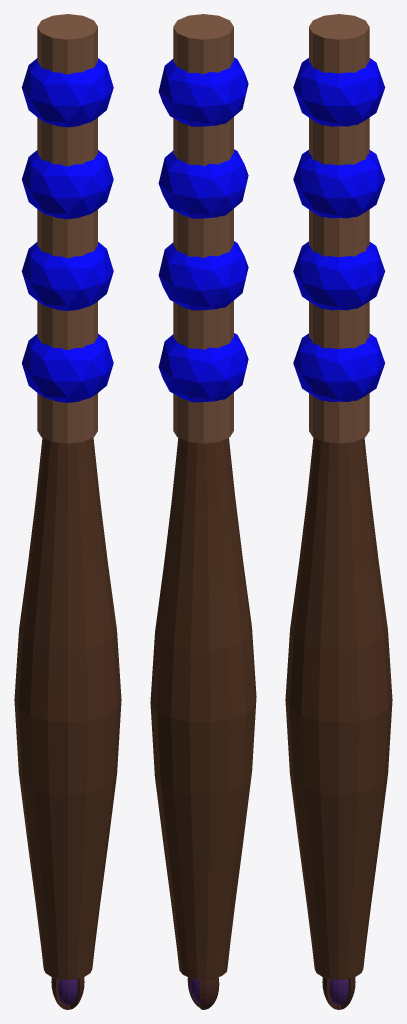
Rendered from Wand 137.glb.
3 views of the same model, side by side, from view 1: azimuth 90°, elevation 25°; view 2: azimuth 210°, elevation 25°; view 3: azimuth 270°, elevation 25° (orthographic).
Visible parts, largest first — view 1: GeneratedWand; view 2: GeneratedWand; view 3: GeneratedWand.
Boxes of the visible parts, box(x1,y1,x2,y2) form: GeneratedWand: box(14, 14, 121, 1009); GeneratedWand: box(150, 14, 256, 1009); GeneratedWand: box(285, 14, 392, 1009).
Bounding box in the file's own units: 0.0499 × 0.5045 × 0.0499.
